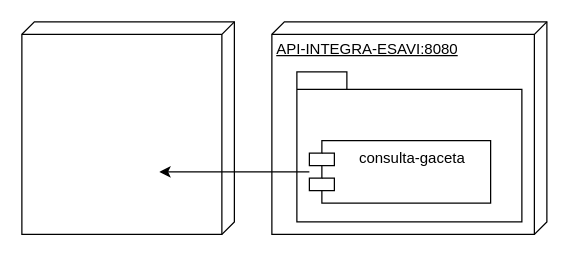
Image size: 569x256. Some labels were removed from this diagram. The shapes that lost their labels are listed below. From the top down, each one's box as (x1, y1, x2, y2) in pixels, then its label:
(21, 21, 234, 234): DB-INTEGRA-ESAVI:5432
(296, 71, 522, 222): gaceta-integra-esavi
